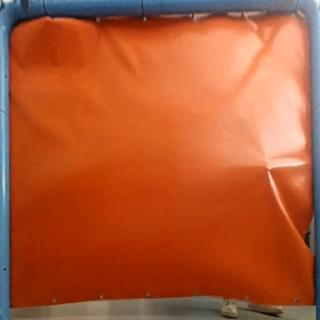Hit-hRxx: (261, 163, 275, 174)
